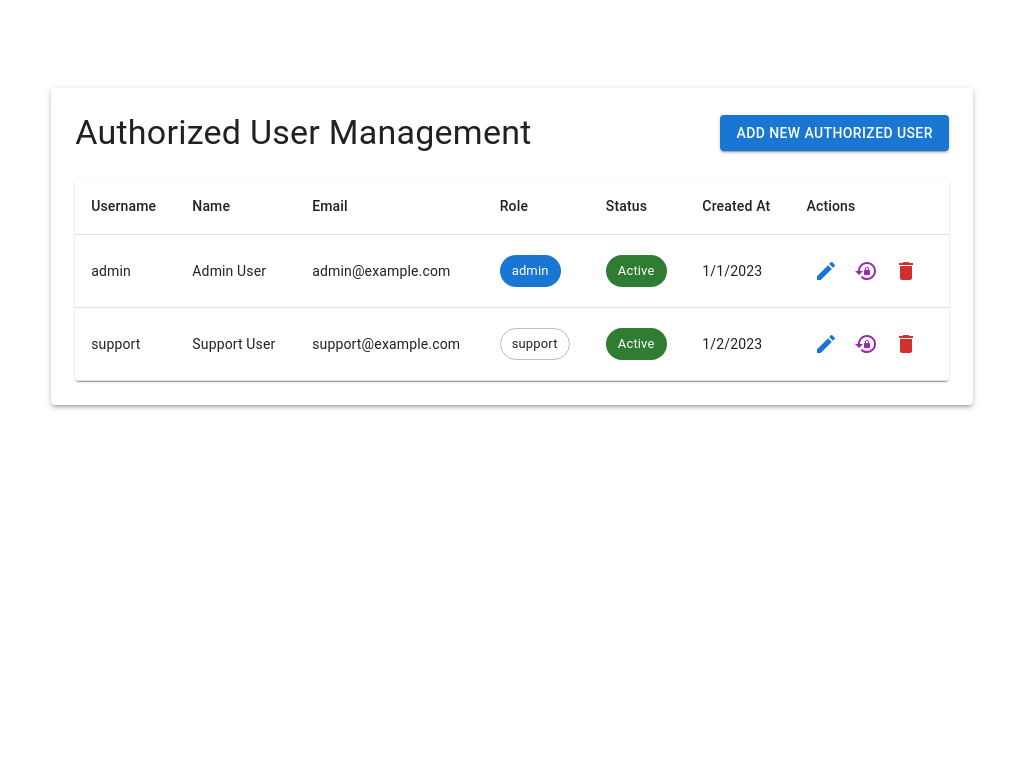
it: UserManagement Component › opens user dialog when Add New User button is clicked
# Click the Add New User button
Click the button "Add New Authorized User": (835,133) [720,115,949,151]
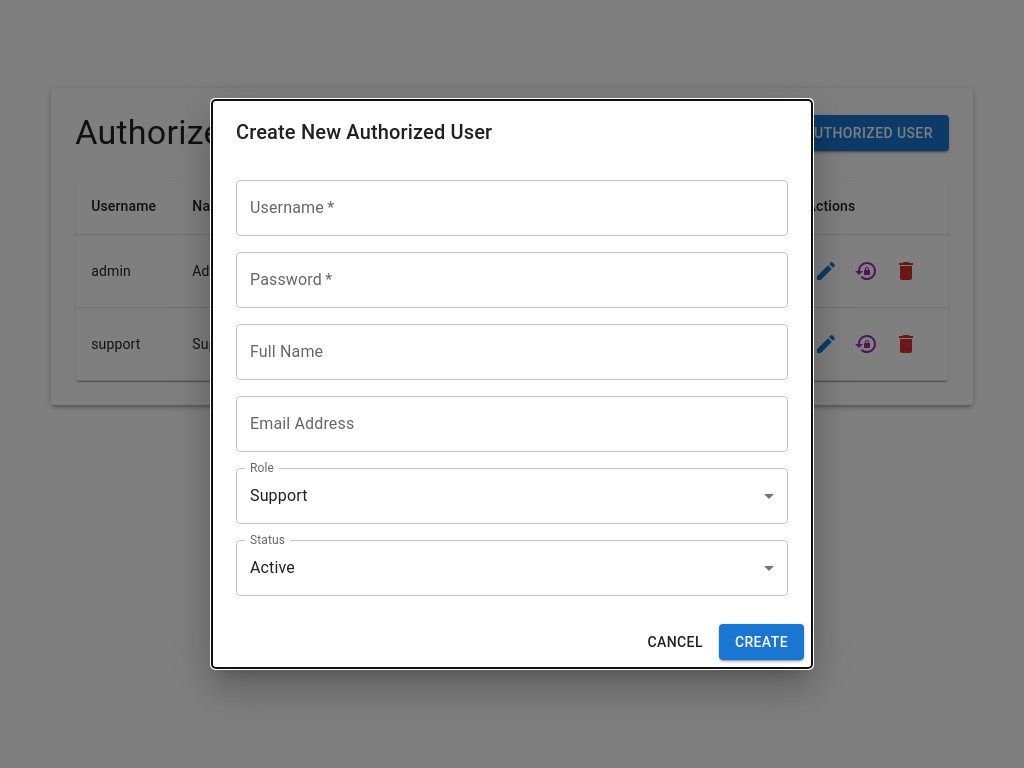
Expected: the dialog is shown, [212,100,812,668]
